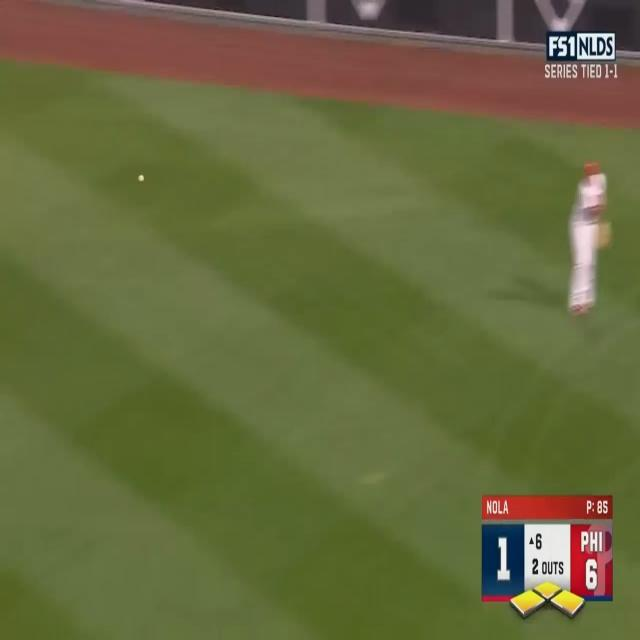baseball: (138, 173, 145, 183)
